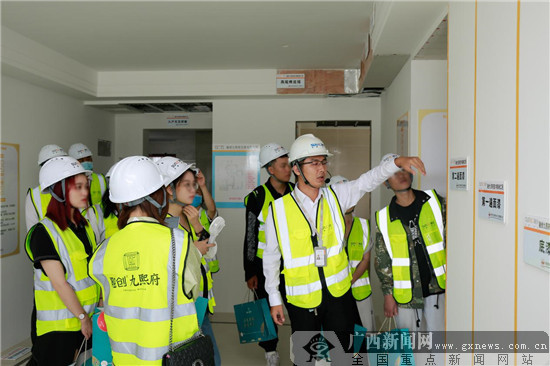person: (262, 132, 369, 366), (89, 155, 203, 366), (24, 156, 101, 366), (373, 152, 445, 331), (241, 141, 296, 365)
reflective_vest: (87, 219, 201, 366), (270, 184, 354, 311), (23, 213, 102, 336), (374, 187, 446, 303), (242, 182, 277, 260), (346, 215, 372, 302)
safety_helmet: (107, 155, 170, 221), (38, 156, 90, 210), (287, 132, 334, 189), (155, 154, 200, 206), (257, 142, 292, 184), (66, 142, 95, 172), (36, 143, 69, 166)
